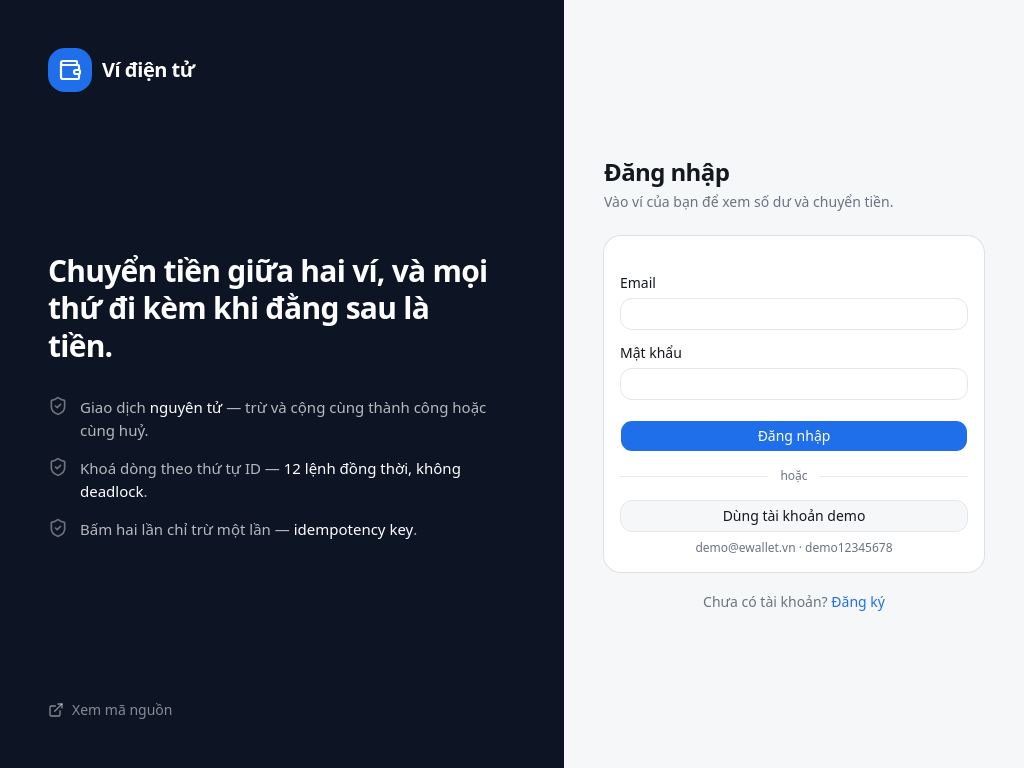
dang nhap › backend chet thi bao loi mang chu khong treo im lang
The width and height of the screenshot is (1024, 768).
Step 1. Type "anh@vieted.com" into the field labelled "Email" → [794, 314], box [620,298,968,330]
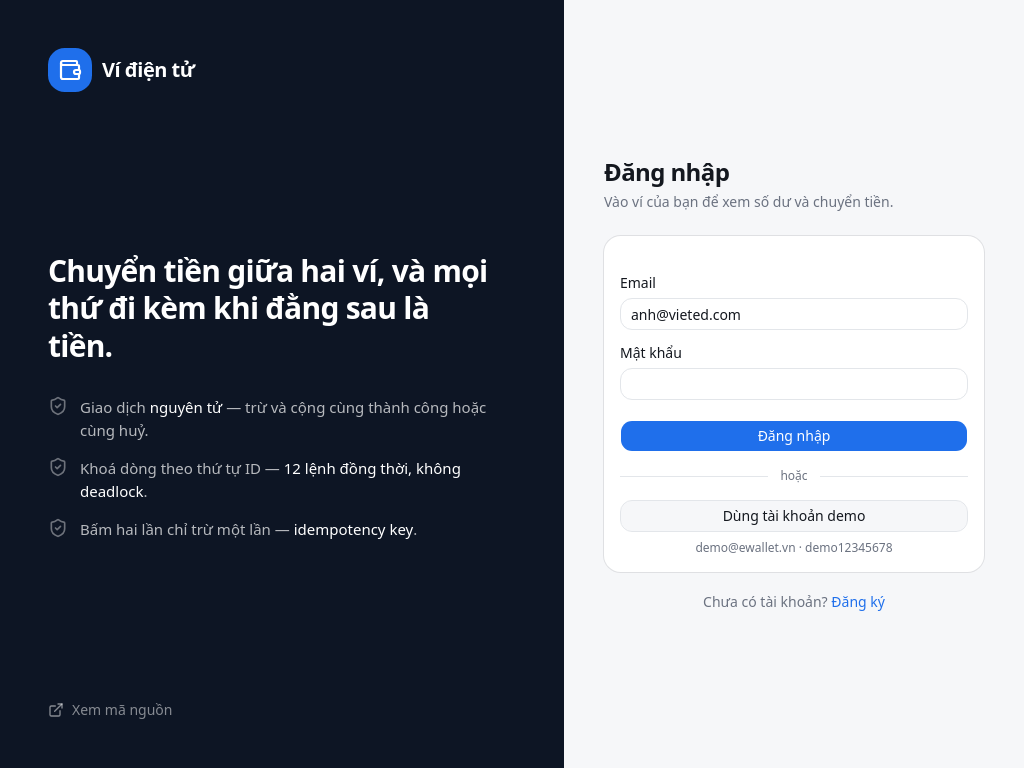
Step 2. Type "matkhau12345" into the password field labelled "Mật khẩu" → [794, 384], box [620,368,968,400]
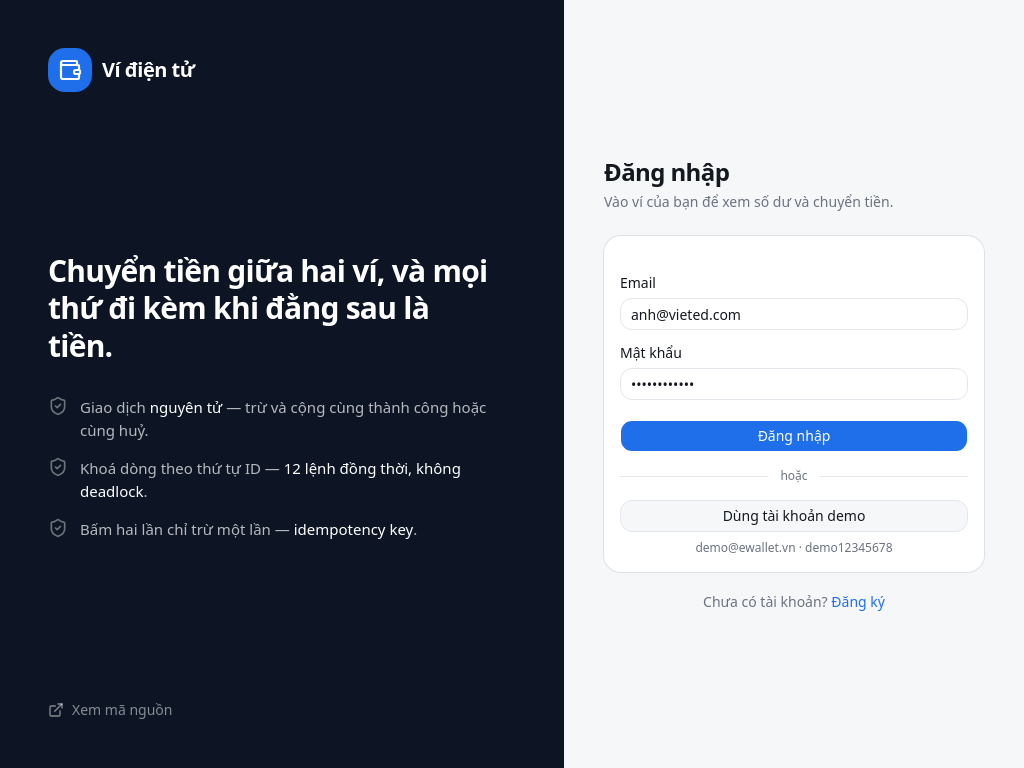
Step 3. Click the button "Đăng nhập" → [794, 436], box [620,420,968,452]
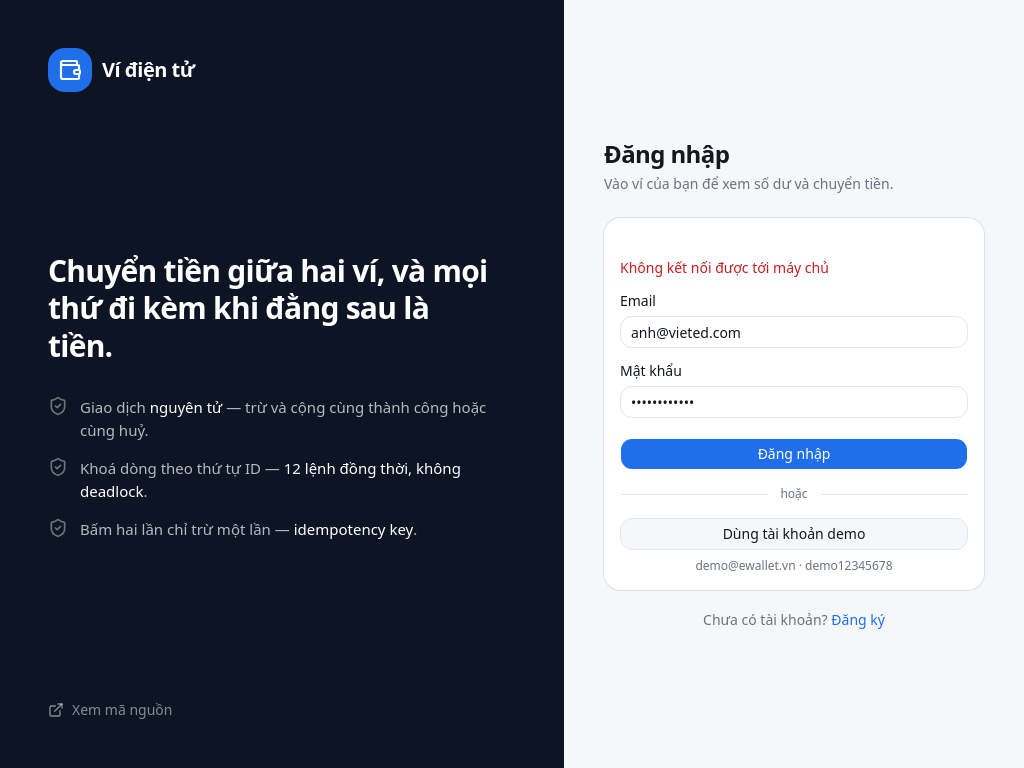
Expected: the text "Không kết nối được tới máy chủ" is shown, [620,258,829,277]
